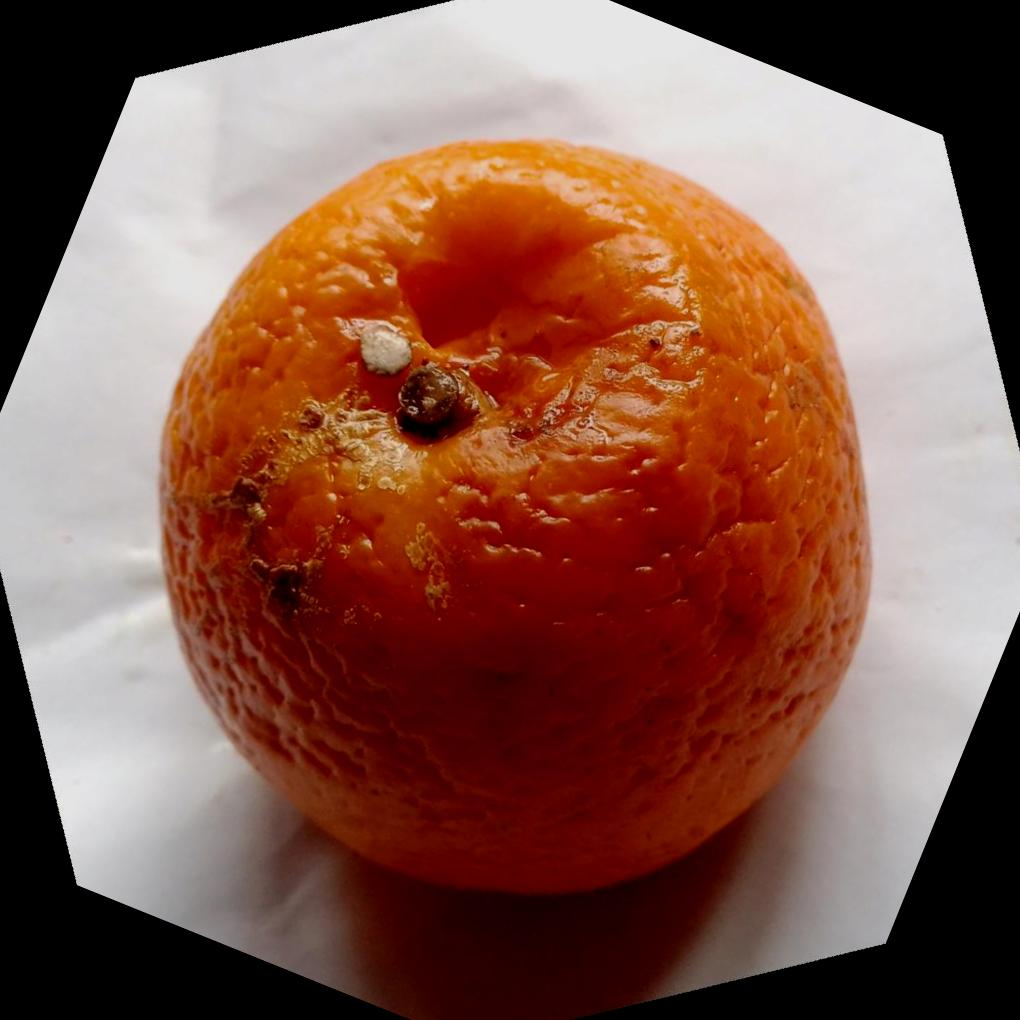FreshOrange: (153, 138, 874, 901)
